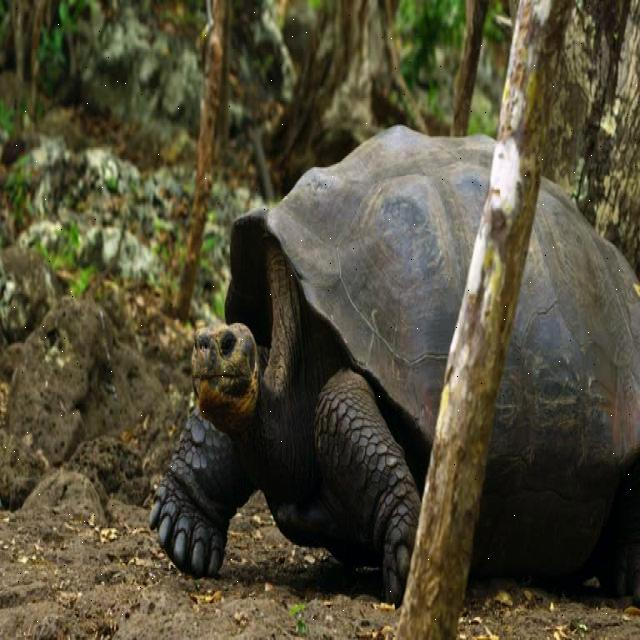tortoise: (130, 113, 640, 615)
